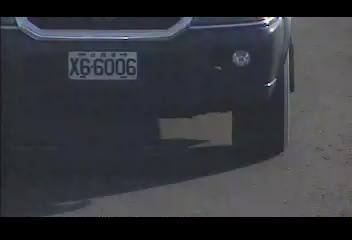plate: (66, 48, 138, 82)
